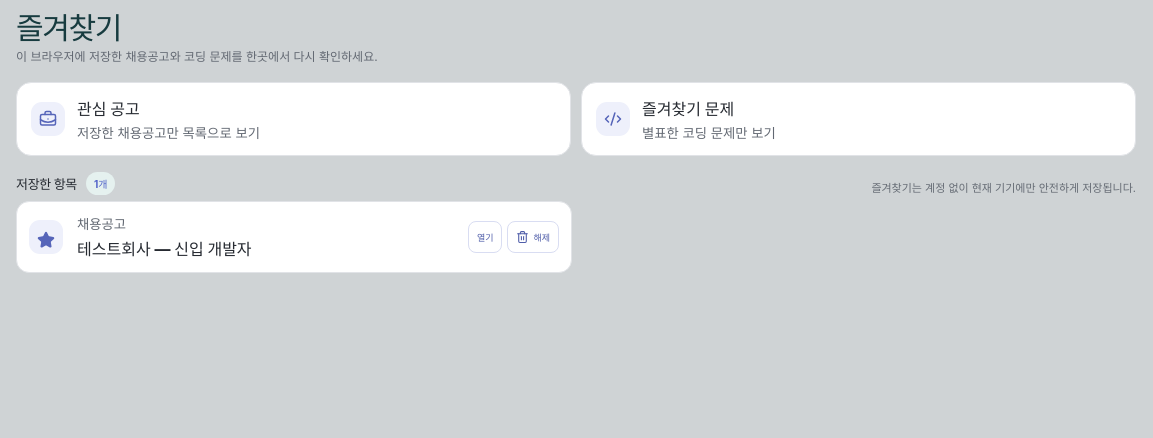
Scenario: favorites workspace › removes a device-local favorite without an API request
Click the button with aria-label "테스트회사 — 신입 개발자 즐겨찾기 해제".
click(533, 237)  # box x1=507 y1=221 x2=559 y2=253
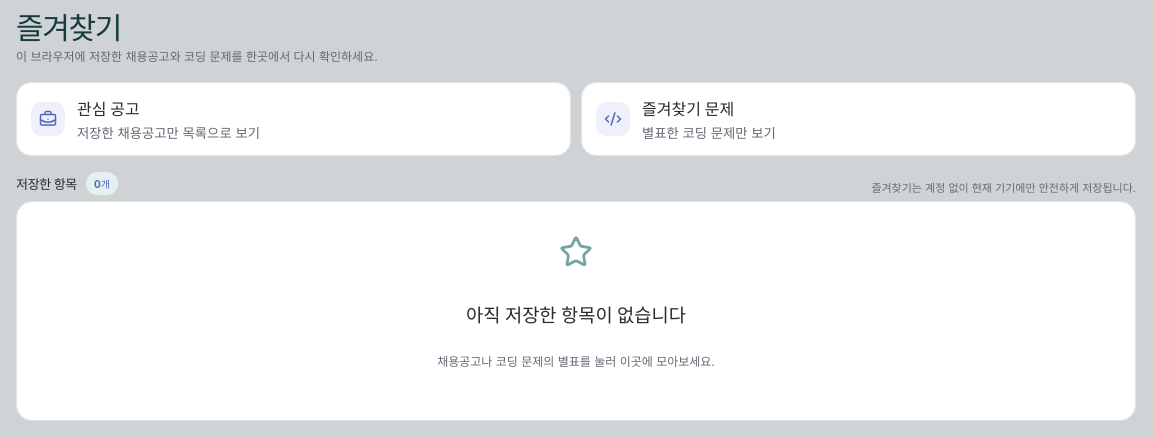
Check: the heading "아직 저장한 항목이 없습니다" is shown, box x1=466 y1=300 x2=686 y2=327
